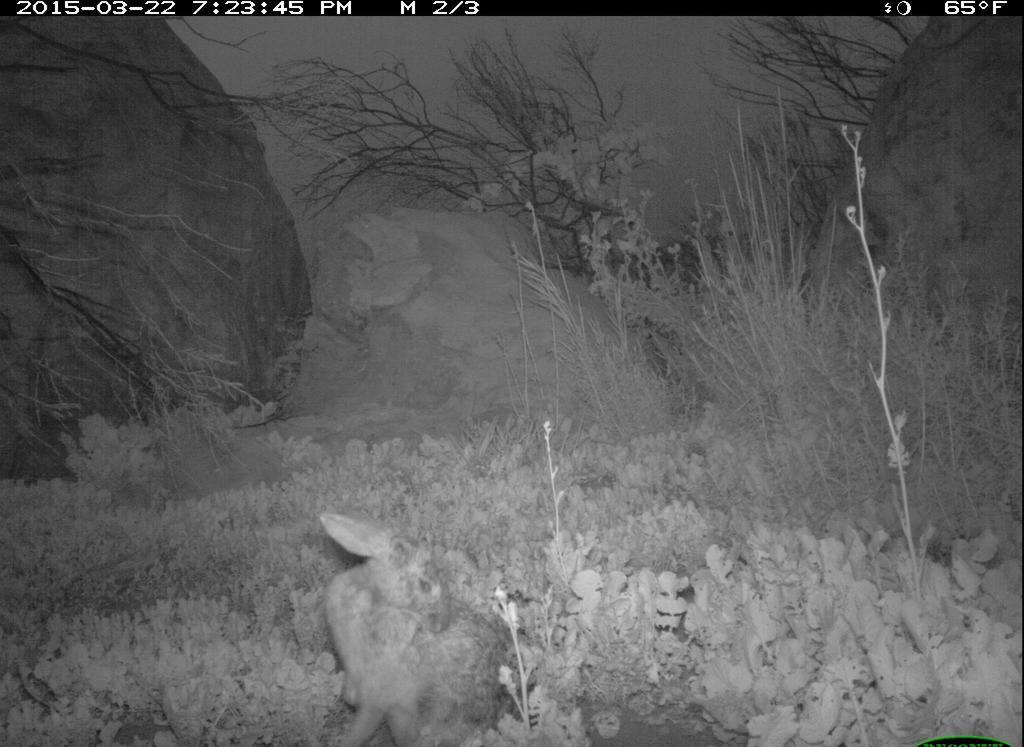rabbit: (314, 504, 518, 745)
